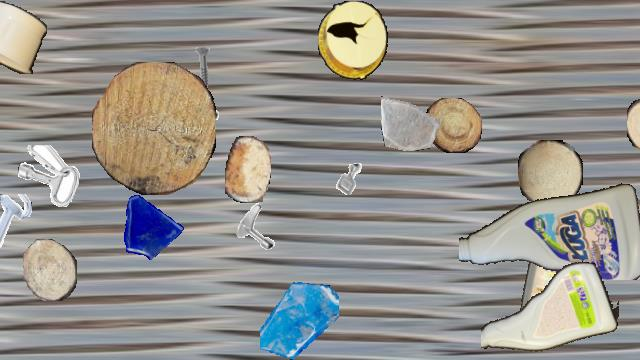glass: (260, 281, 338, 359), (114, 189, 184, 259), (381, 92, 439, 150)
metal: (167, 99, 229, 161), (18, 145, 80, 207), (230, 200, 284, 254), (179, 45, 227, 93), (328, 157, 372, 201), (0, 194, 34, 248)
plastic: (459, 176, 640, 280), (481, 257, 619, 359), (515, 217, 581, 339), (318, 1, 388, 79), (0, 1, 47, 73)
wood: (92, 62, 216, 194), (518, 140, 582, 204), (23, 239, 77, 301), (225, 136, 271, 202), (425, 98, 481, 152), (627, 96, 640, 150)
